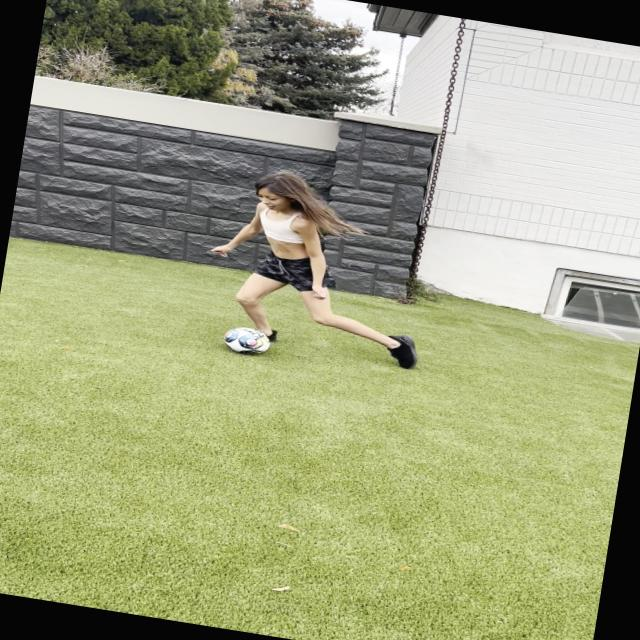Soccer Ball: (222, 324, 274, 359)
